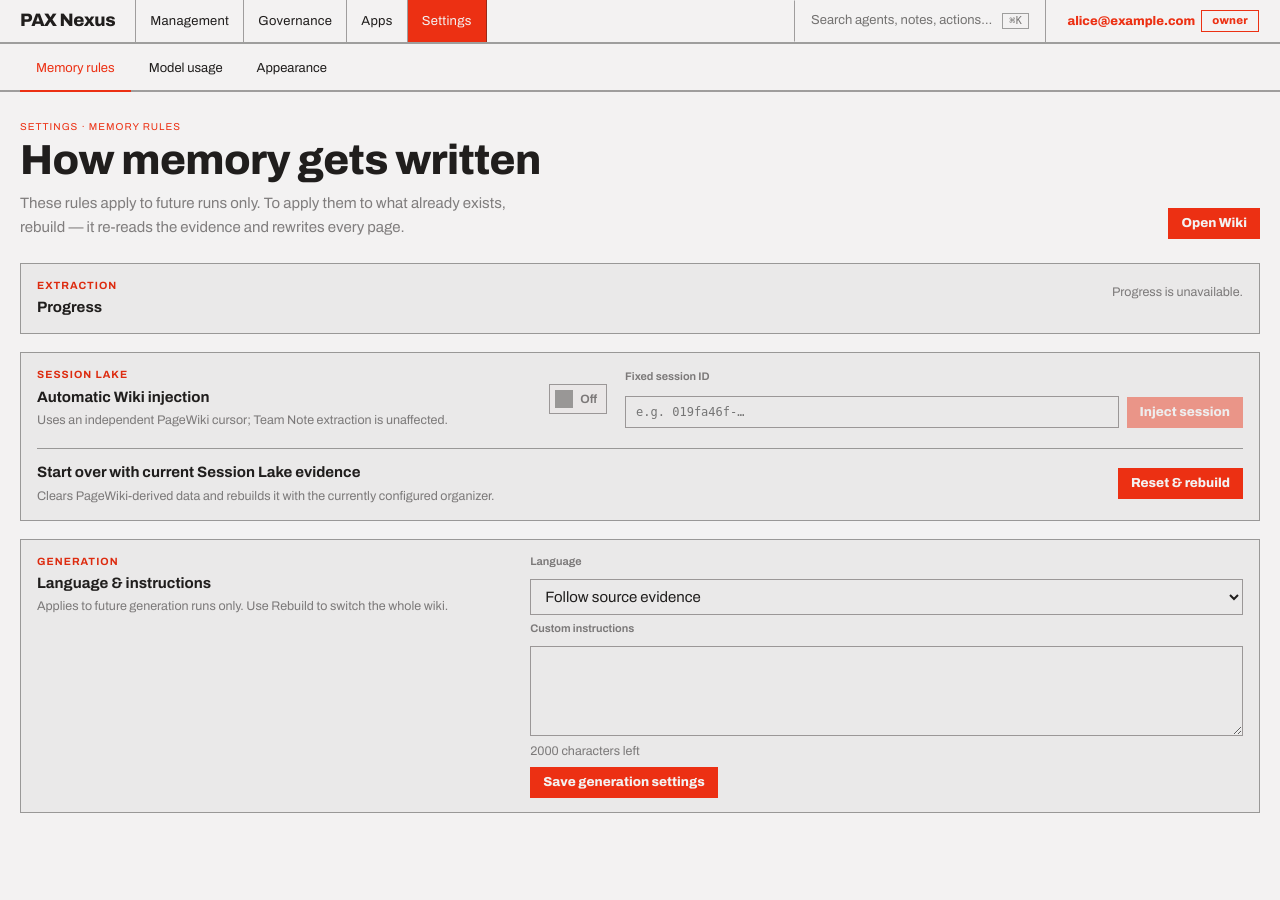
memory rules page ingestion controls › lets an owner confirm a full Wiki rebuild without deleting Session Lake
The image size is (1280, 900).
Check: the switch is shown, box [549,384,607,414]
Click the button "Reset & rebuild" at [1180, 484], box [1118,468,1243,499]
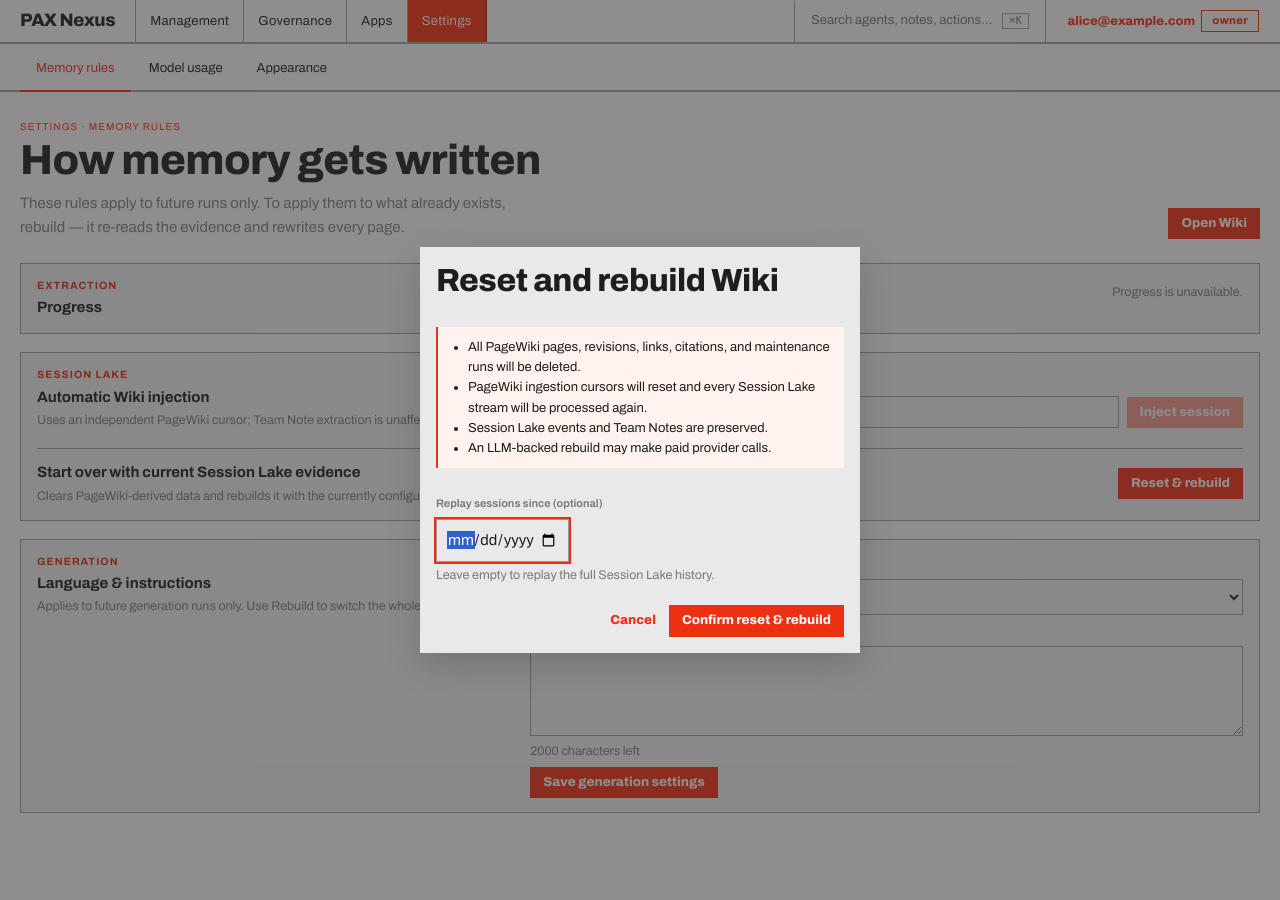
Check: the list item "Session Lake events and Team Notes are preserved." is shown, box [468,421,768,435]
Click the button "Confirm reset & rebuild" at [756, 621], box [669,606,844,637]
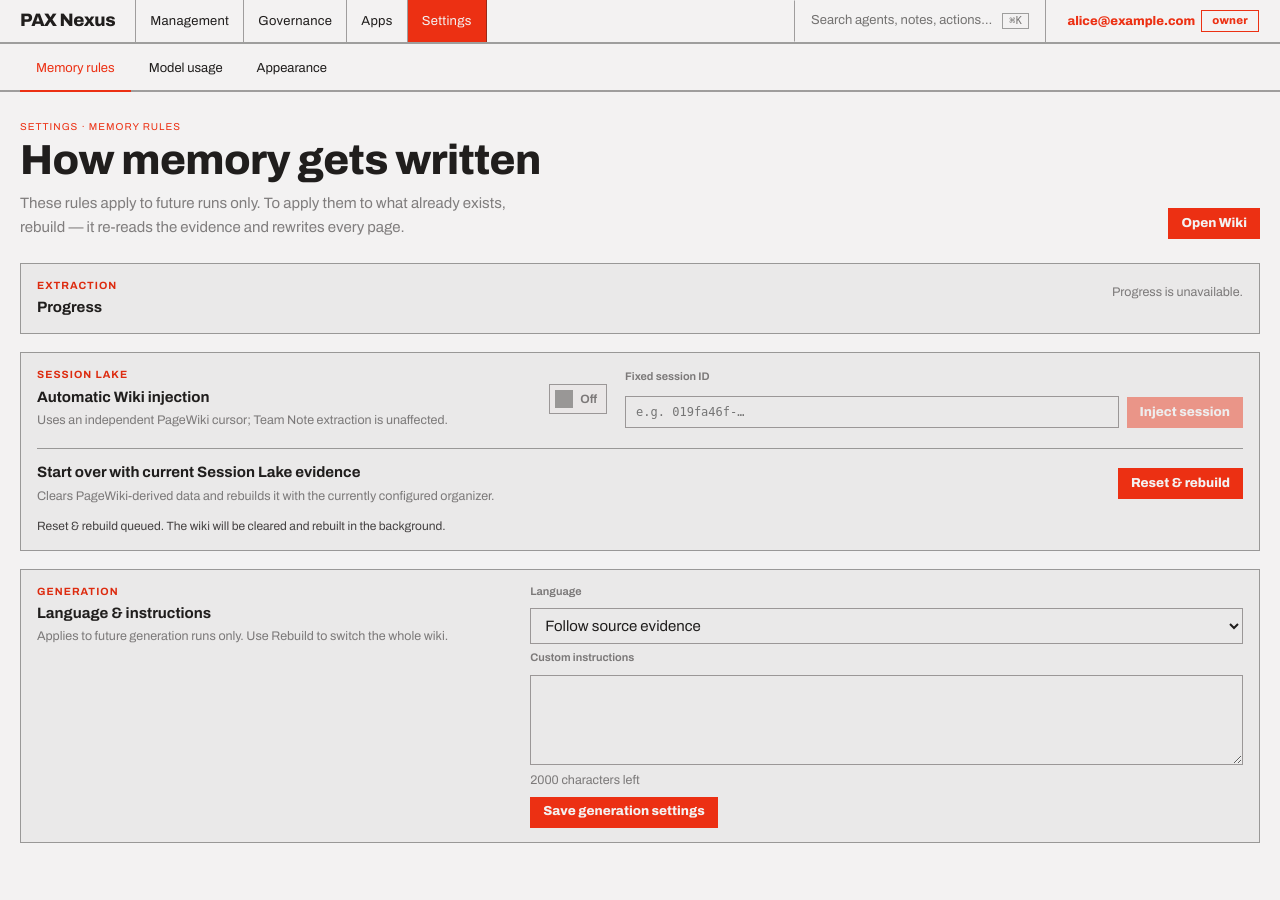
Check: the text "Reset & rebuild queued. The wiki will be cleared and rebuilt in the background." is shown, box [37,519,446,533]
